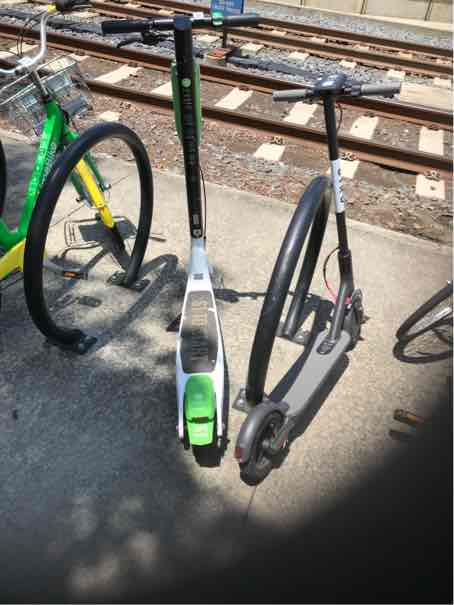scooter: (97, 7, 267, 464)
